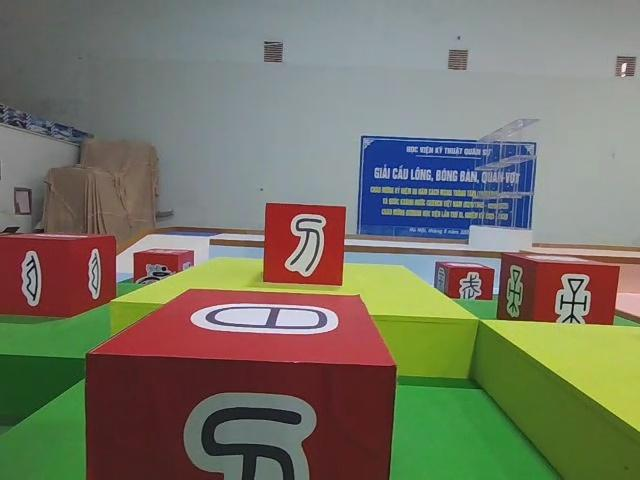R1: (131, 245, 196, 290)
R2 Fake: (83, 285, 400, 480), (261, 199, 349, 287), (433, 261, 497, 307)
R2 Real: (495, 249, 622, 337), (0, 230, 118, 319)
